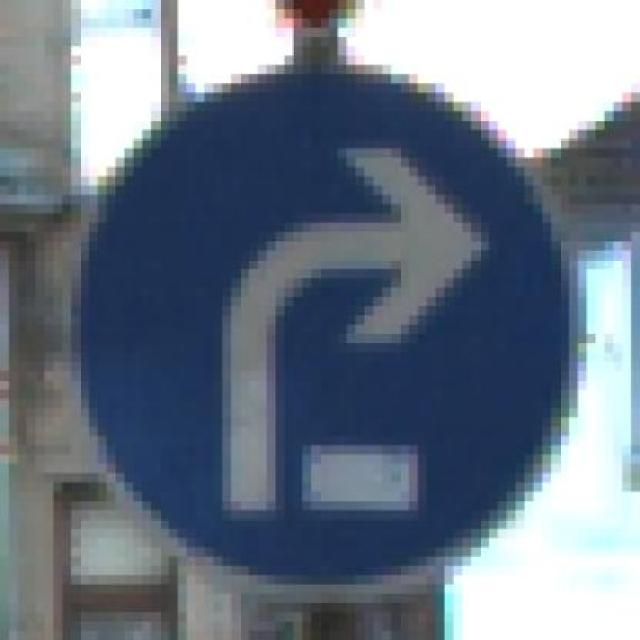Turn right ahead: (44, 64, 587, 576)
